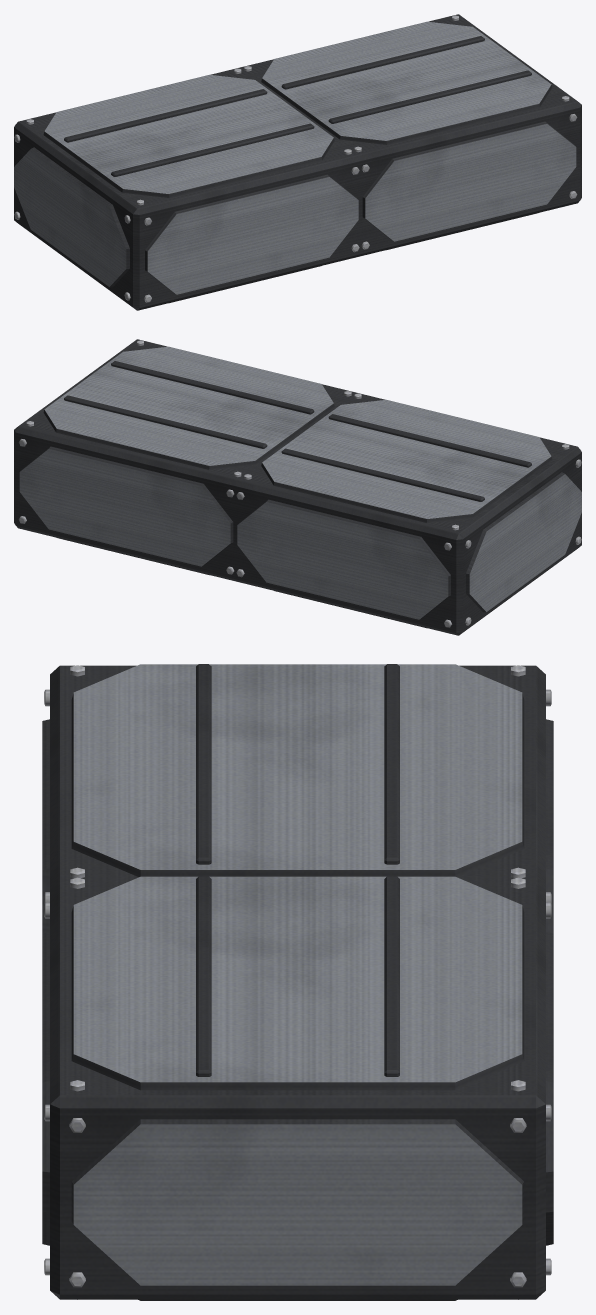
File: R4B_Plate1x2.glb
3 renders of one model, top to bottom at view 1: azimuth 30°, elevation 25°; view 2: azimuth 150°, elevation 25°; view 3: azimuth 270°, elevation 25°, orthographic. The views are drawn at different scales.
Parts seen in each view (by area): view 1: R4B_Plate1x2; view 2: R4B_Plate1x2; view 3: R4B_Plate1x2.
Part boxes in pixels (x1,y1,x2,y2): R4B_Plate1x2: (14, 14, 581, 310); R4B_Plate1x2: (14, 339, 581, 635); R4B_Plate1x2: (42, 664, 553, 1300).
Size of the model in its own units: 1.07 by 0.252 by 0.52.
Materials: 3 (3 with a texture image).
